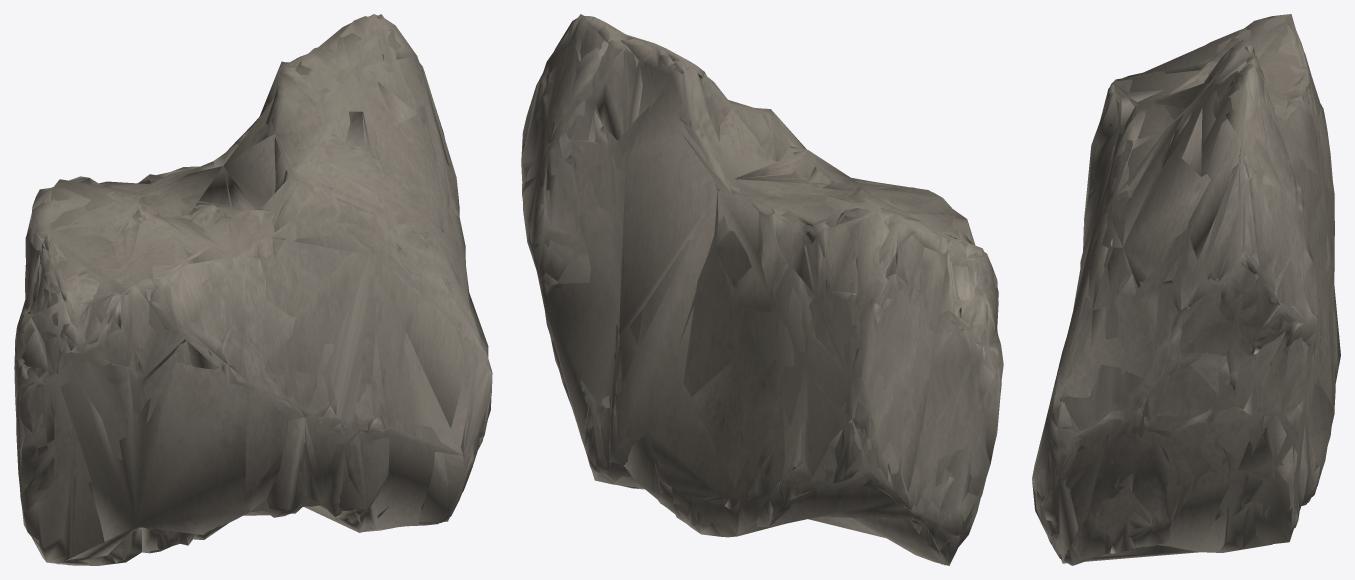
Rendered from moon_rock_01_hi.glb.
3 views of the same model, side by side, from view 1: azimuth 30°, elevation 25°; view 2: azimuth 150°, elevation 25°; view 3: azimuth 270°, elevation 25° (orthographic). The views are drawn at different scales.
Parts seen in each view (by area): view 1: moon_rock_01_hi; view 2: moon_rock_01_hi; view 3: moon_rock_01_hi.
Boxes of the visible parts, x1=… form: moon_rock_01_hi: x1=14, y1=14, x2=492, y2=565; moon_rock_01_hi: x1=521, y1=14, x2=1003, y2=565; moon_rock_01_hi: x1=1032, y1=14, x2=1340, y2=565.
Bounding box in the file's own units: 1 × 0.9997 × 0.5304.
1 material, 1 textured.
